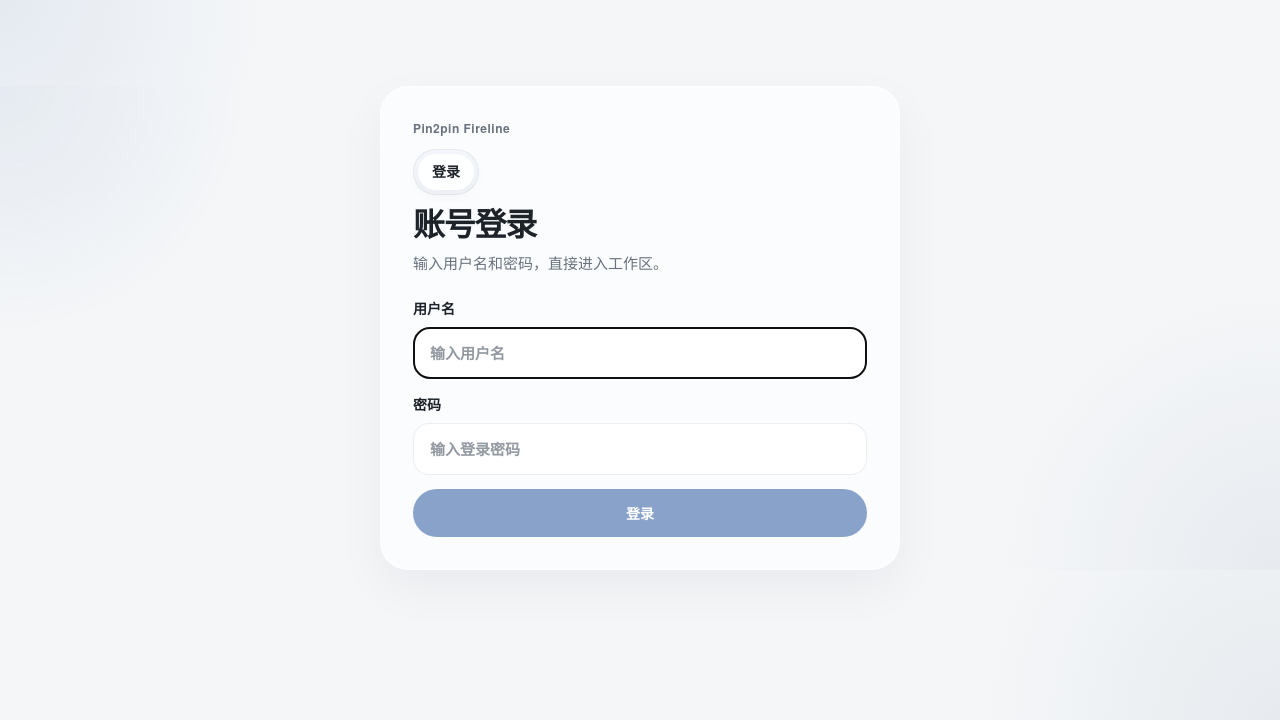
Test: AuthPanel › shows the backend error for invalid credentials and stays on the login screen
Type "alice" into the field labelled "用户名" at (640, 353), box left=413, top=327, right=867, bottom=379
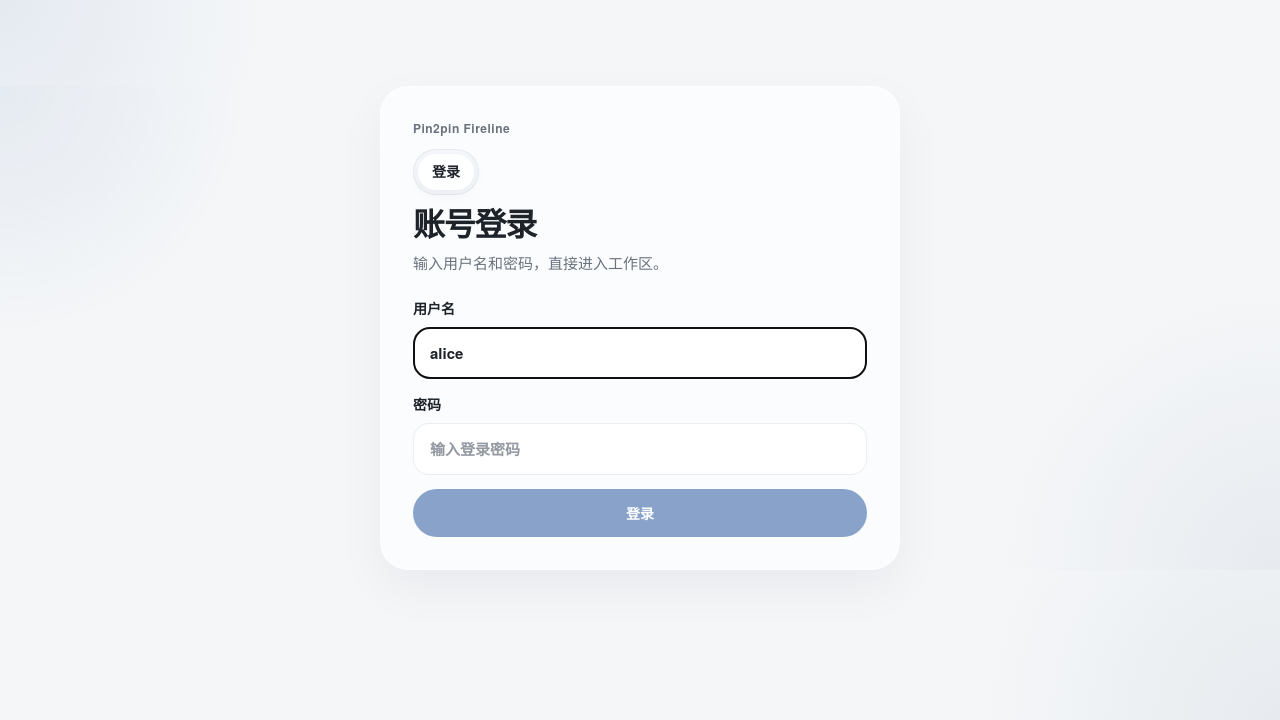
Type "wrong-password" into the password field labelled "密码" at (640, 449), box left=413, top=423, right=867, bottom=475
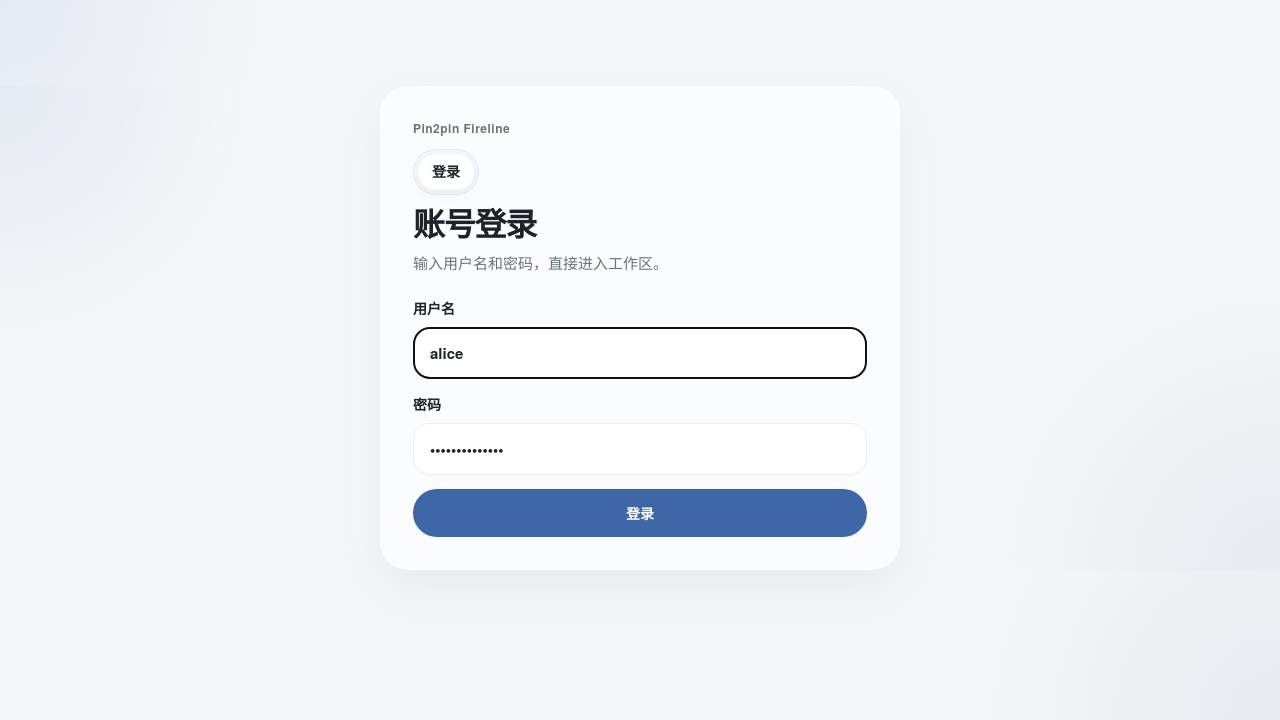
Click the button "登录" at (640, 513), box left=413, top=489, right=867, bottom=537
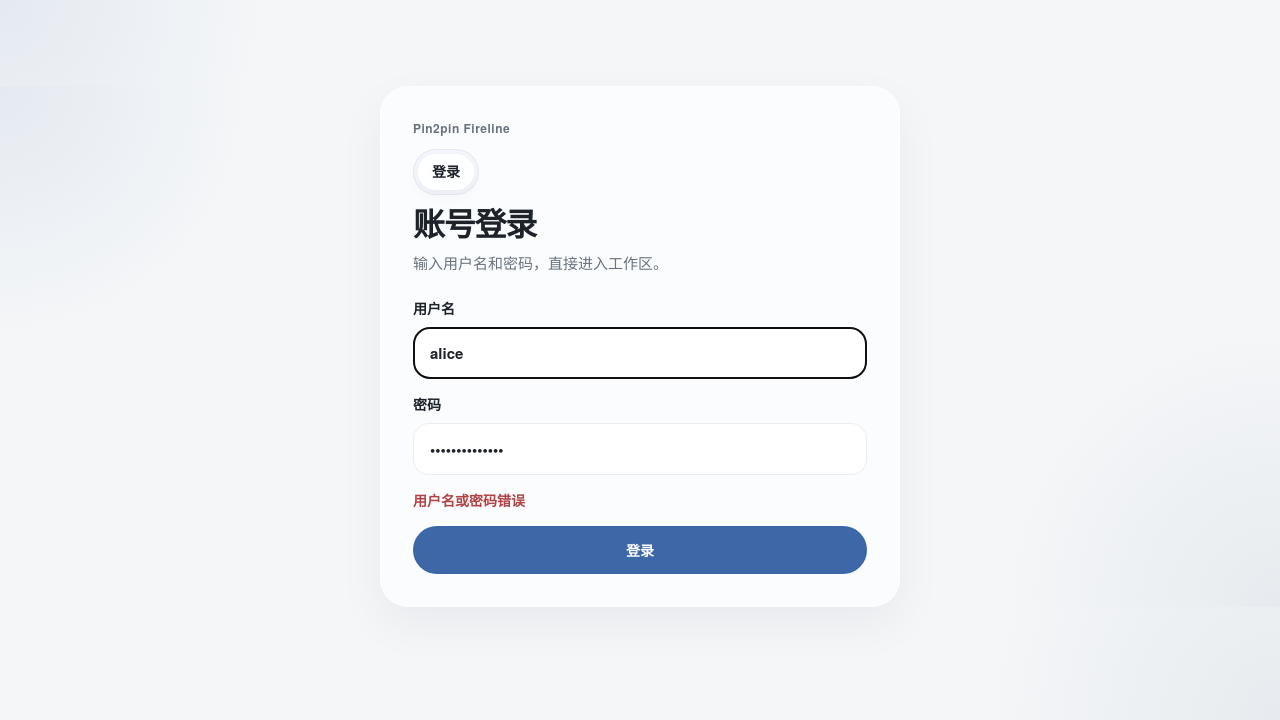
Result: the text "用户名或密码错误" is shown at left=413, top=490, right=525, bottom=510
